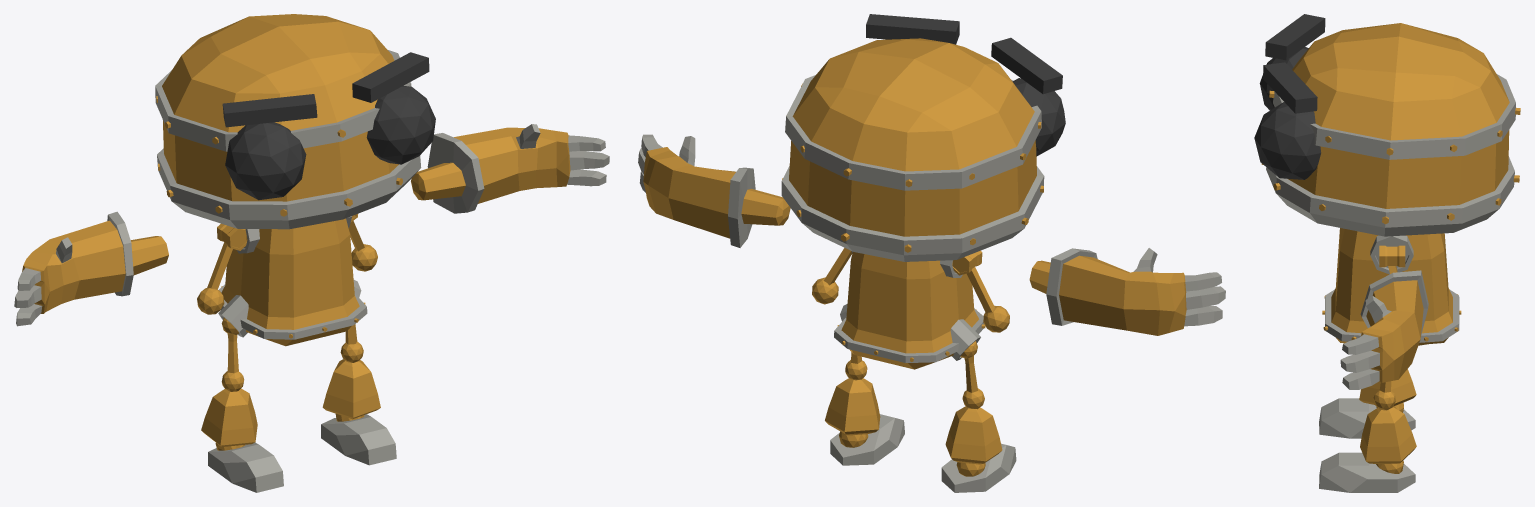
The model's file is Robot.gltf.
3 renders of one model, left to right at view 1: azimuth 30°, elevation 25°; view 2: azimuth 150°, elevation 25°; view 3: azimuth 270°, elevation 25°, orthographic.
Visible parts, largest first — view 1: Head, Torso, Hand.L, Hand.R, LowerLeg.R, Foot.L, Foot.R, LowerLeg.L, Arm.R, Arm.L, Leg.R; view 2: Head, Torso, Hand.R, Hand.L, LowerLeg.R, LowerLeg.L, Foot.L, Foot.R, Arm.R, Arm.L, Leg.R; view 3: Head, Torso, Hand.L, Foot.L, LowerLeg.L, Foot.R, LowerLeg.R, Shoulder.L, Leg.L.
Boxes of the visible parts, box(x1,y1,x2,y2) form: Head: box(155, 14, 435, 229); Torso: box(218, 216, 367, 346); Hand.L: box(411, 124, 609, 213); Hand.R: box(14, 211, 168, 326); LowerLeg.R: box(201, 388, 257, 450); Foot.L: box(321, 414, 396, 465); Foot.R: box(208, 442, 283, 492); LowerLeg.L: box(322, 359, 380, 421); Arm.R: box(197, 242, 232, 314); Arm.L: box(348, 221, 377, 271); Leg.R: box(221, 334, 244, 391); Head: box(781, 14, 1065, 261); Torso: box(834, 251, 985, 369); Hand.R: box(1029, 248, 1225, 335); Hand.L: box(638, 134, 790, 247); LowerLeg.R: box(945, 406, 1002, 476); LowerLeg.L: box(825, 378, 880, 447); Foot.L: box(830, 414, 904, 465); Foot.R: box(941, 443, 1016, 492); Arm.R: box(967, 267, 1009, 332); Arm.L: box(812, 248, 852, 304); Leg.R: box(962, 355, 984, 409); Head: box(1254, 14, 1520, 236); Torso: box(1322, 228, 1461, 345); Hand.L: box(1340, 270, 1428, 389); Foot.L: box(1319, 452, 1415, 492); LowerLeg.L: box(1360, 407, 1416, 473); Foot.R: box(1319, 398, 1415, 438); LowerLeg.R: box(1359, 369, 1416, 412); Shoulder.L: box(1379, 245, 1405, 267); Leg.L: box(1373, 381, 1395, 410).
Size of the model in its own units: 6.62 by 4.5 by 2.62.
